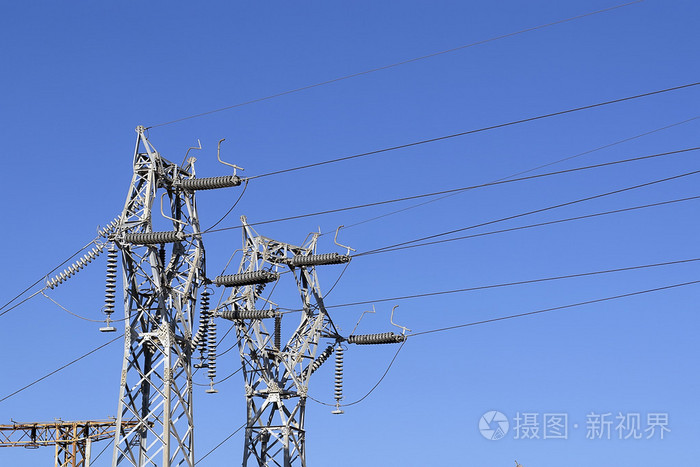insulator: (46, 246, 105, 291), (213, 267, 277, 286), (103, 246, 119, 318), (302, 347, 334, 378), (349, 331, 405, 347), (180, 175, 239, 189), (331, 348, 346, 402), (205, 322, 219, 379), (125, 231, 181, 245), (289, 253, 346, 266), (197, 291, 209, 350), (222, 307, 272, 320), (99, 212, 121, 237)
